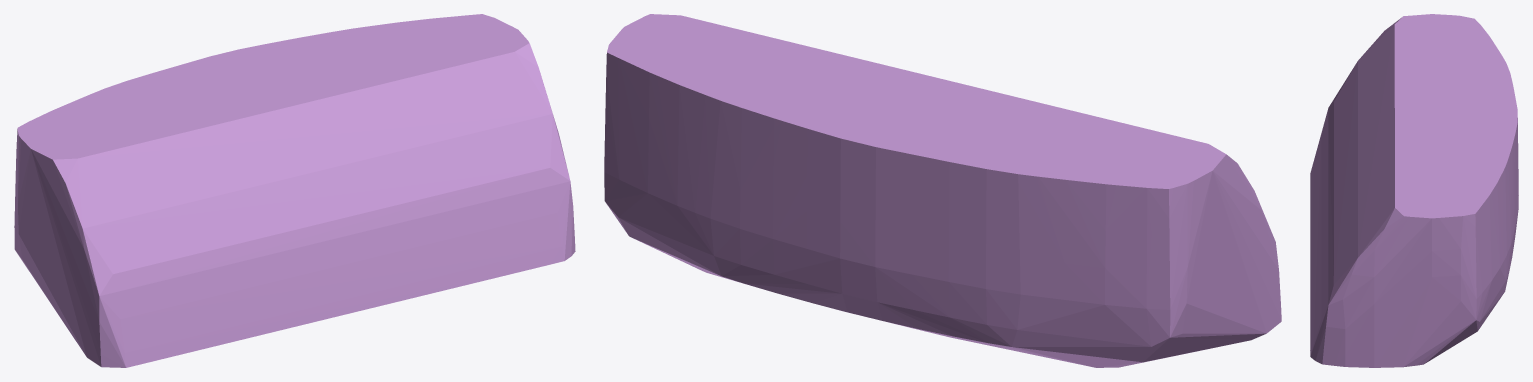
The model's file is right-shoulder-pitch-0_part_49.obj.
3 views of the same model, side by side, from view 1: azimuth 30°, elevation 25°; view 2: azimuth 150°, elevation 25°; view 3: azimuth 270°, elevation 25° (orthographic). The views are drawn at different scales.
Size of the model in its own units: 0.0287 by 0.00972 by 0.0123.
